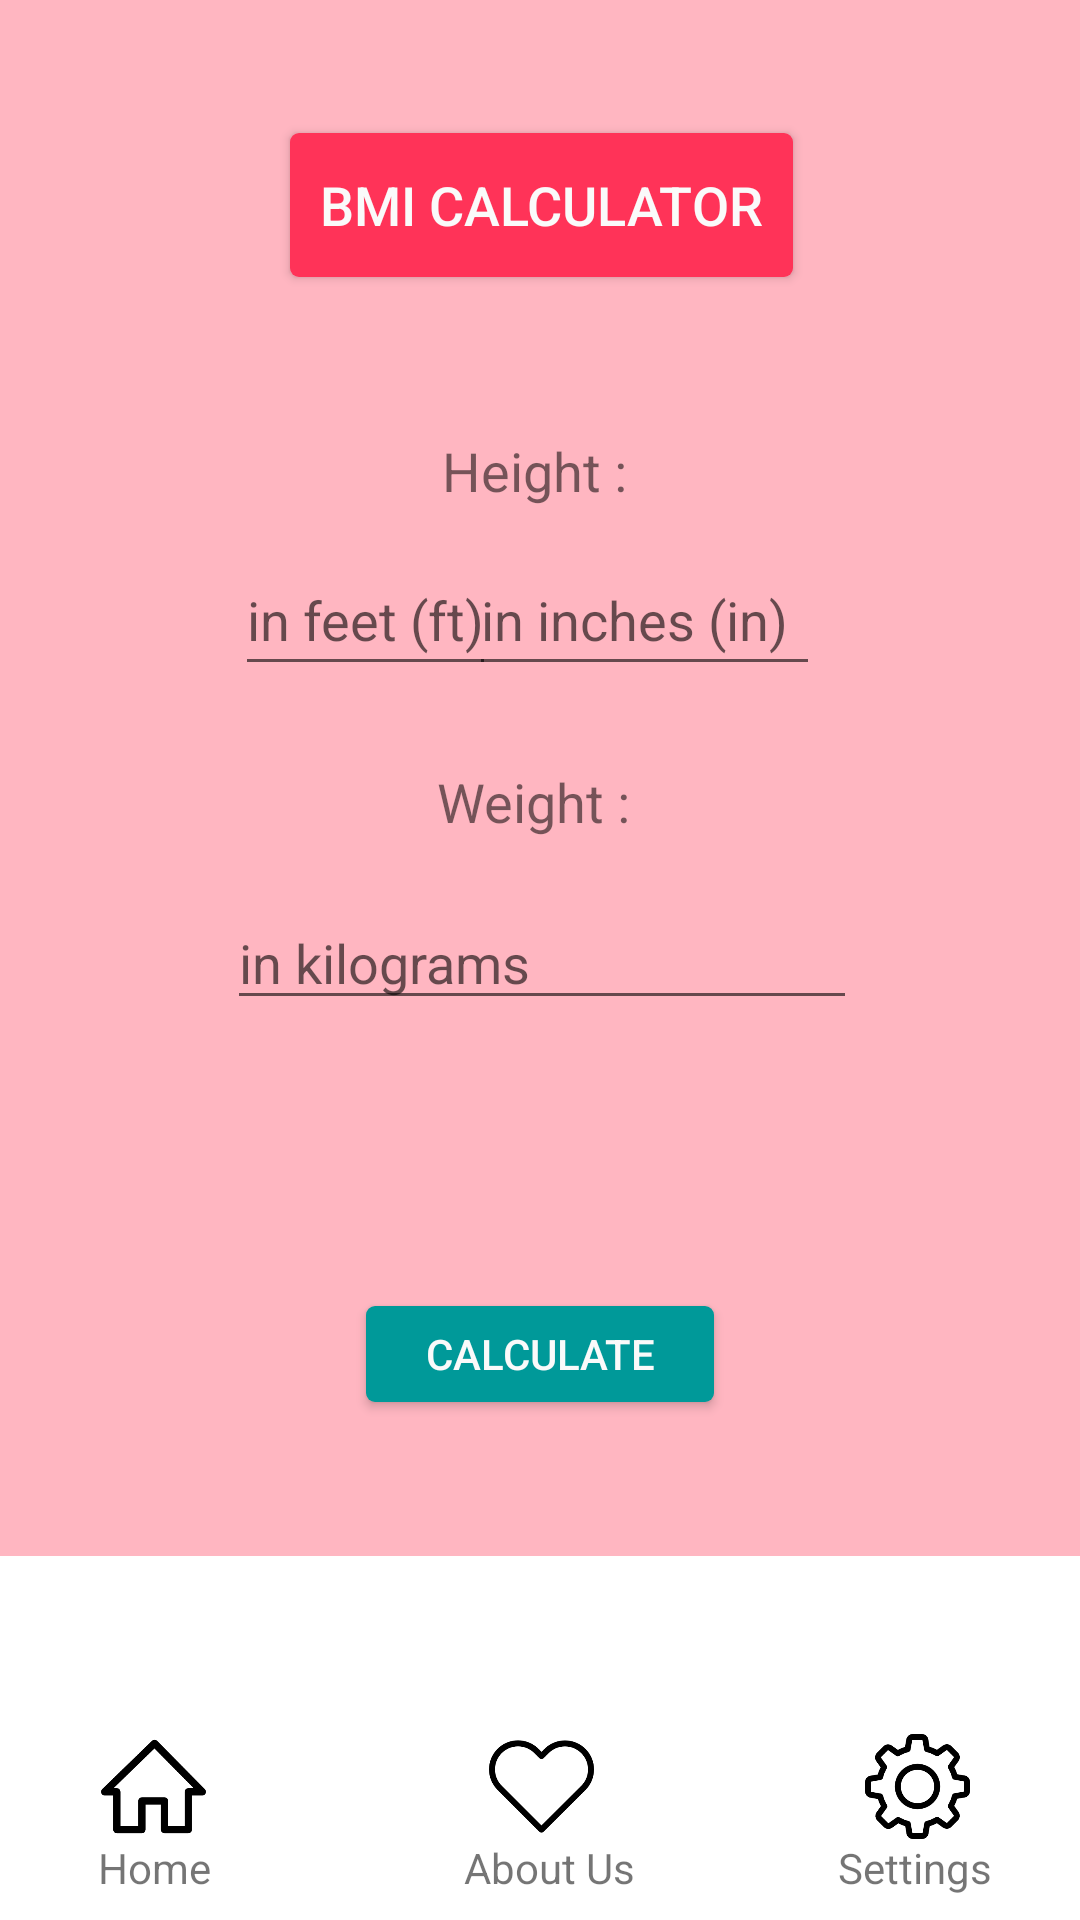

Screen size 1080 x 1920. Icon name, then its box in pixels as (x1, y1, x2, y2):
heart: (489, 1740, 594, 1833)
